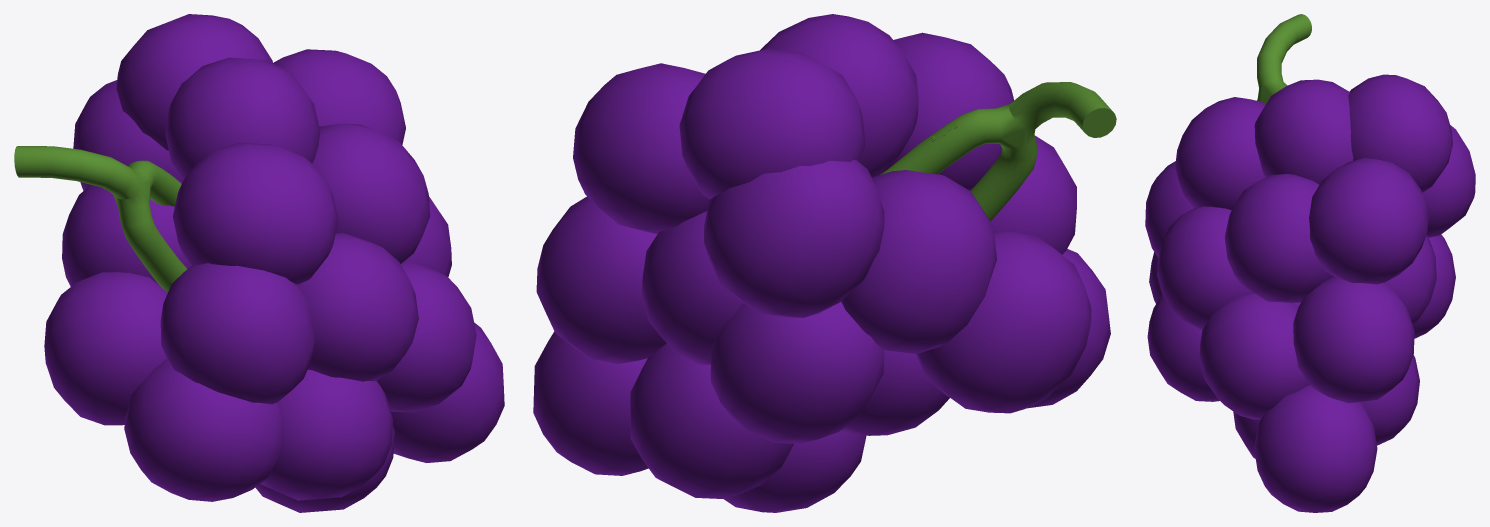
Rendered from grapes.glb.
The picture shows the model from 3 angles, left to right: view 1: azimuth 30°, elevation 25°; view 2: azimuth 150°, elevation 25°; view 3: azimuth 270°, elevation 25°; orthographic projection. The views are drawn at different scales.
Visible parts, largest first — view 1: Circle.027; view 2: Circle.027; view 3: Circle.027.
Boxes of the visible parts, x1,y1,x2,y2 form: Circle.027: [14, 14, 504, 512]; Circle.027: [533, 14, 1116, 512]; Circle.027: [1145, 14, 1475, 512].
Bounding box in the file's own units: 2.32 × 2.04 × 1.68.
Materials: 1 (1 with a texture image).
